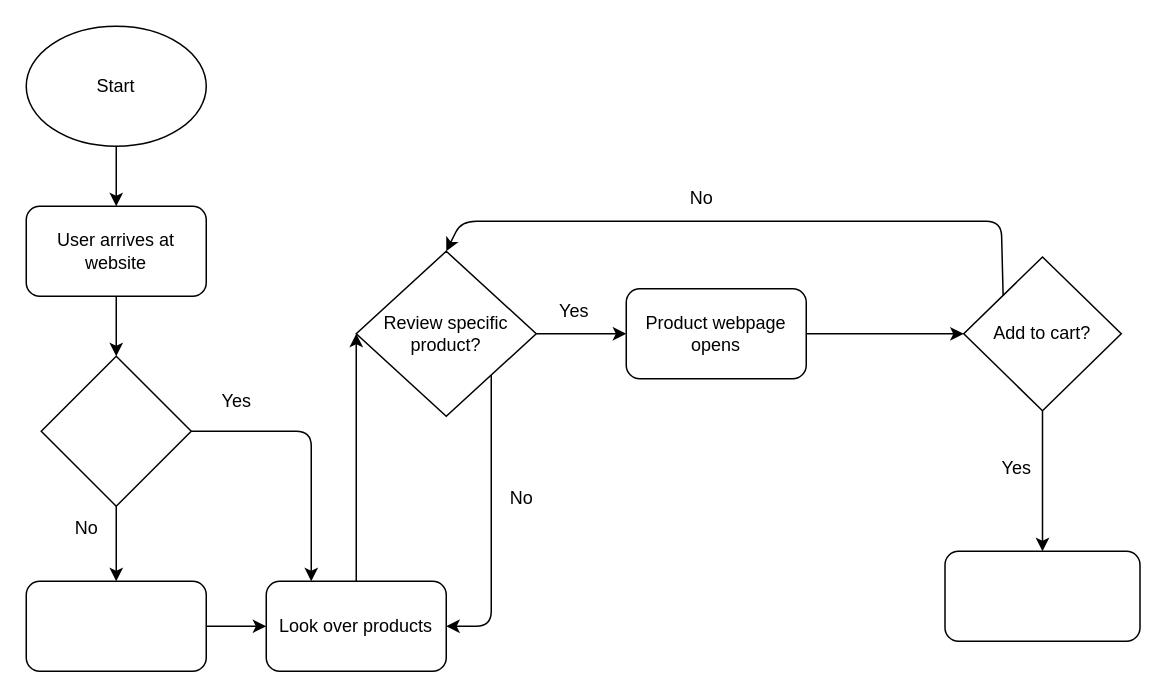
Image size: 1167x698. Some labels were removed from this diagram. Here are the shapes that lost their labels. From the top down, the centre of each, then its label:
pixel 115 430: Search for product?
pixel 1042 595: Added to cart notification
pixel 115 625: Browse current selection
